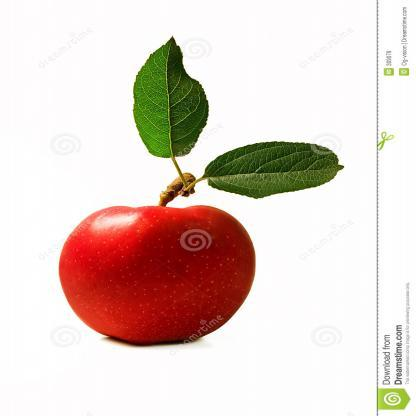Apple leaf: (128, 32, 220, 170), (206, 144, 366, 206)
